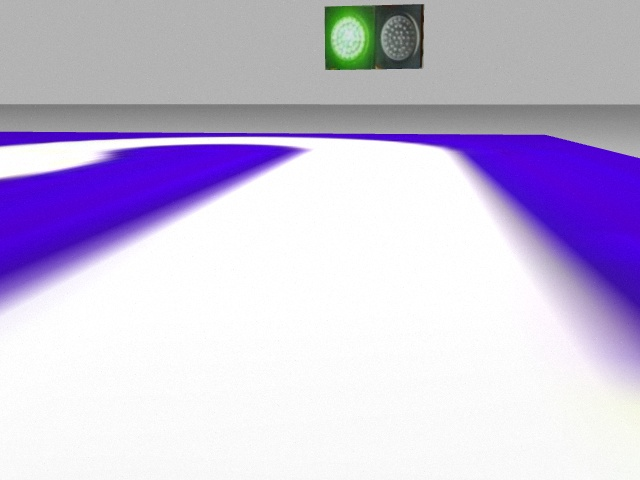green: (326, 7, 376, 69)
